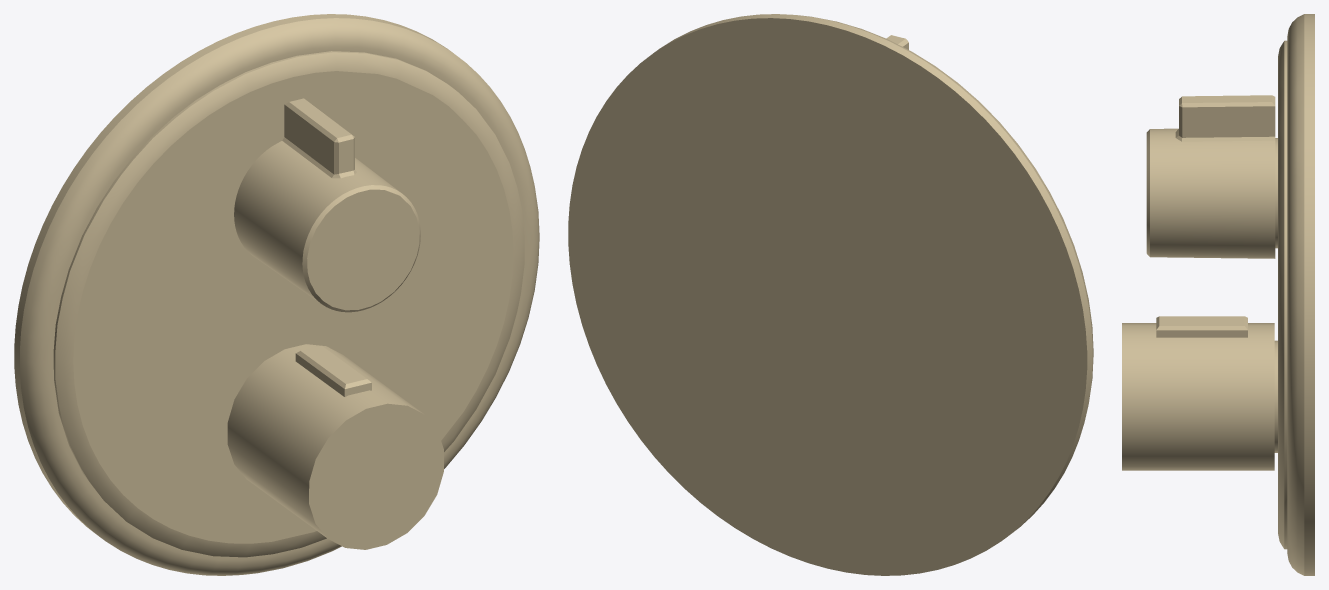
3 renders of one model, left to right at view 1: azimuth 30°, elevation 25°; view 2: azimuth 150°, elevation 25°; view 3: azimuth 270°, elevation 25°, orthographic. The views are drawn at different scales.
Visible parts, largest first — view 1: L_0b528599_30da_4b89_90bc_9809ec2fc37a_I1, L_fb32d448_c480_47a2_ac0a_bbca4ca6d439_I6, L_d5e6d2bc_0a0b_437f_b6e4_acb8e121776f_I5, L_318b4798_47d0_4ca1_ab17_fd60b03ba60b_I2; view 2: L_0b528599_30da_4b89_90bc_9809ec2fc37a_I1; view 3: L_fb32d448_c480_47a2_ac0a_bbca4ca6d439_I6, L_d5e6d2bc_0a0b_437f_b6e4_acb8e121776f_I5, L_0b528599_30da_4b89_90bc_9809ec2fc37a_I1, L_318b4798_47d0_4ca1_ab17_fd60b03ba60b_I2, L_4ba1177e_4ff5_4e43_a85a_0f0dad230ea2_I3, L_941ab5fb_d405_4643_8e9b_3a85df6b3cd1_I4.
Boxes of the visible parts, left/top/right/bottom form: L_0b528599_30da_4b89_90bc_9809ec2fc37a_I1: left=14, top=14, right=539, bottom=575; L_fb32d448_c480_47a2_ac0a_bbca4ca6d439_I6: left=227, top=344, right=443, bottom=549; L_d5e6d2bc_0a0b_437f_b6e4_acb8e121776f_I5: left=234, top=98, right=420, bottom=312; L_318b4798_47d0_4ca1_ab17_fd60b03ba60b_I2: left=295, top=345, right=371, bottom=396; L_0b528599_30da_4b89_90bc_9809ec2fc37a_I1: left=568, top=14, right=1093, bottom=575; L_fb32d448_c480_47a2_ac0a_bbca4ca6d439_I6: left=1122, top=323, right=1274, bottom=470; L_d5e6d2bc_0a0b_437f_b6e4_acb8e121776f_I5: left=1146, top=95, right=1275, bottom=258; L_0b528599_30da_4b89_90bc_9809ec2fc37a_I1: left=1278, top=14, right=1314, bottom=575; L_318b4798_47d0_4ca1_ab17_fd60b03ba60b_I2: left=1156, top=316, right=1247, bottom=337; L_4ba1177e_4ff5_4e43_a85a_0f0dad230ea2_I3: left=1274, top=340, right=1277, bottom=452; L_941ab5fb_d405_4643_8e9b_3a85df6b3cd1_I4: left=1275, top=138, right=1277, bottom=248.
Size of the model in its own units: 0.1749 by 0.175 by 0.06.
